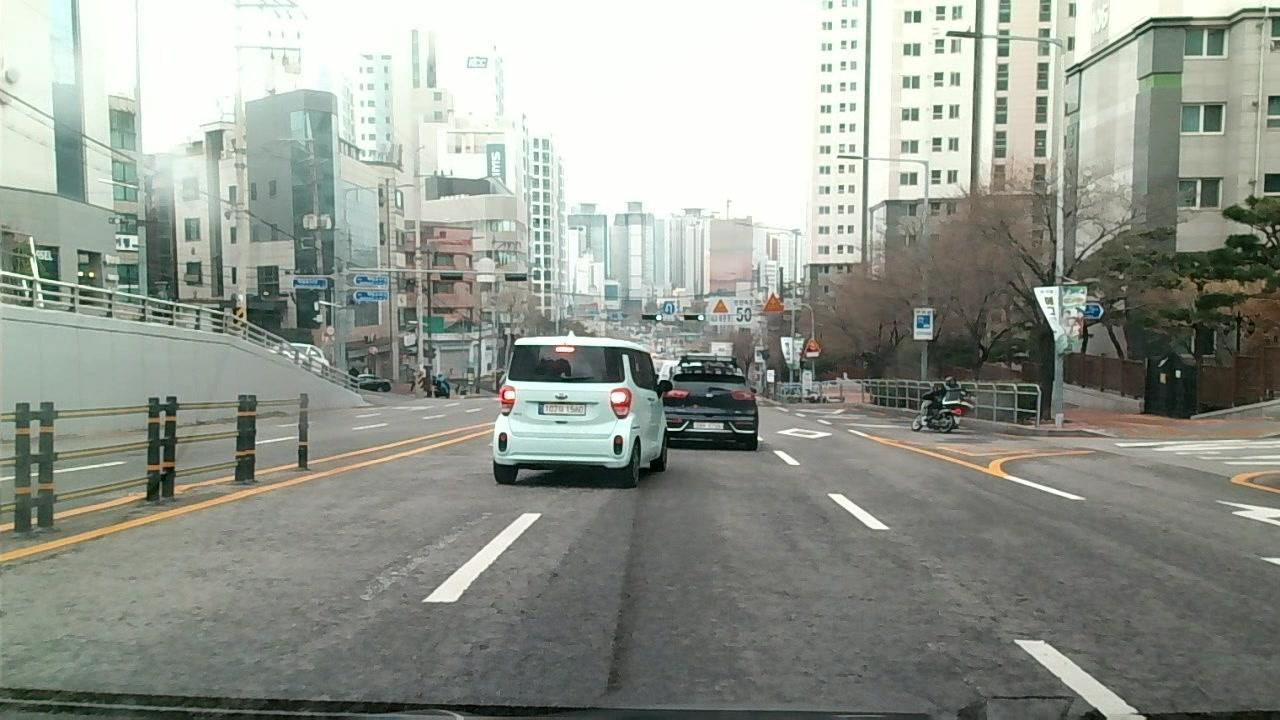banner: (603, 503, 640, 697), (518, 519, 589, 618)
